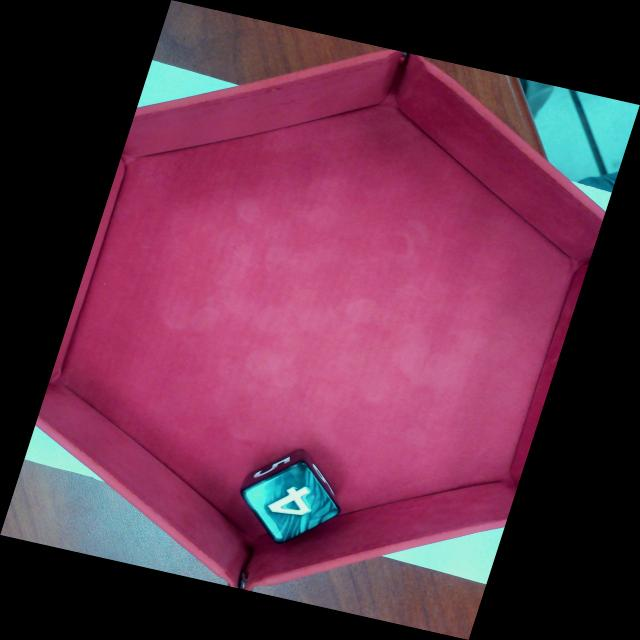dice: (238, 459, 343, 547)
